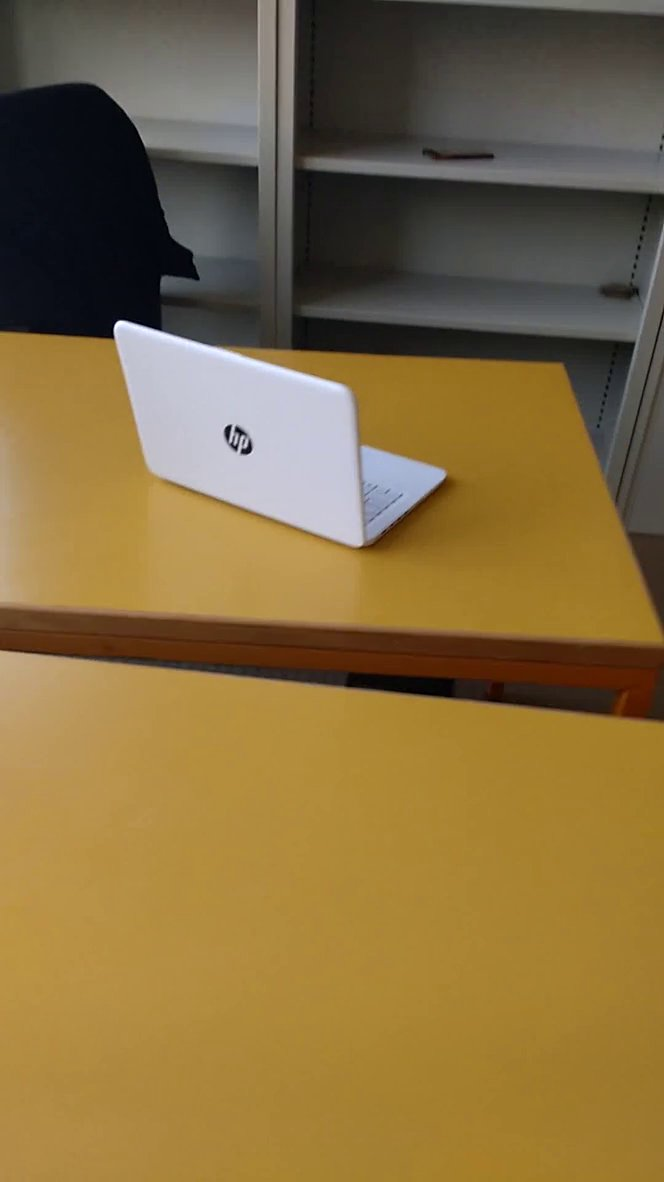laptop: (107, 313, 459, 557)
